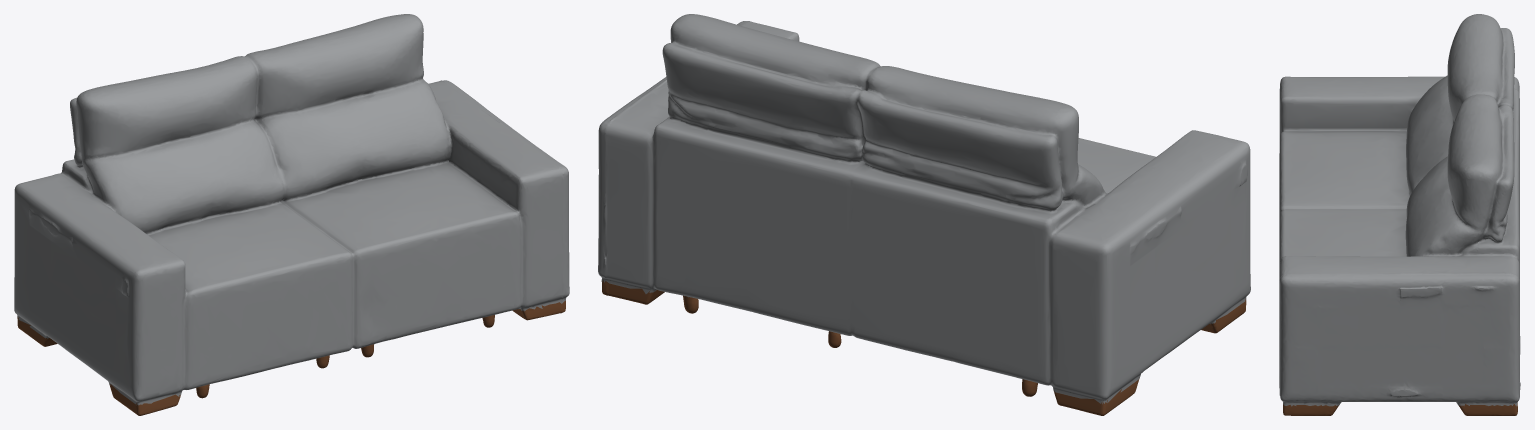
The model's file is versalhes-182-foto.glb.
3 renders of one model, left to right at view 1: azimuth 30°, elevation 25°; view 2: azimuth 150°, elevation 25°; view 3: azimuth 270°, elevation 25°, orthographic. The views are drawn at different scales.
Parts seen in each view (by area): view 1: Sofa; view 2: Sofa; view 3: Sofa.
Part boxes in pixels (<box>): Sofa: <box>14,14,569,415</box>; Sofa: <box>598,14,1250,415</box>; Sofa: <box>1279,14,1520,415</box>.
Size of the model in its own units: 1.82 by 0.95 by 0.9.
